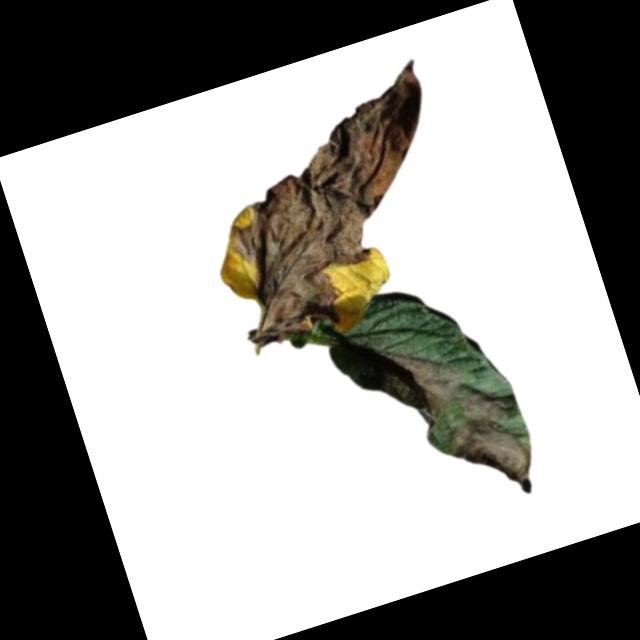Late_blight: (186, 56, 485, 356), (433, 381, 545, 511), (385, 329, 471, 433)
